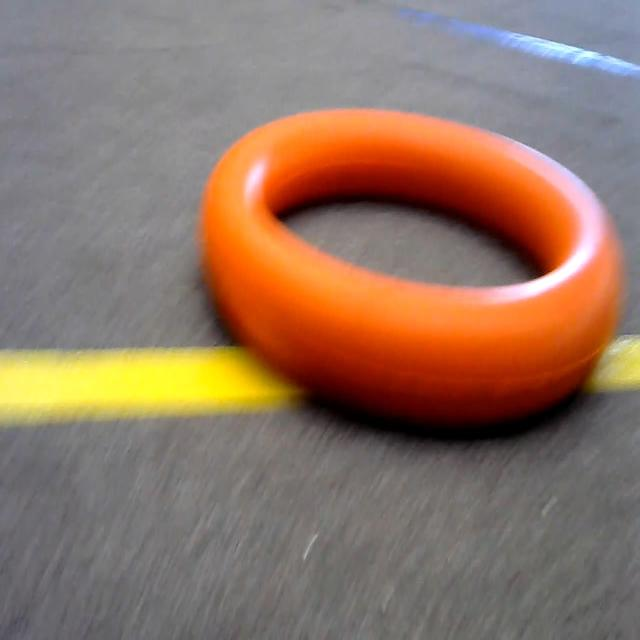note: (181, 86, 640, 437)
